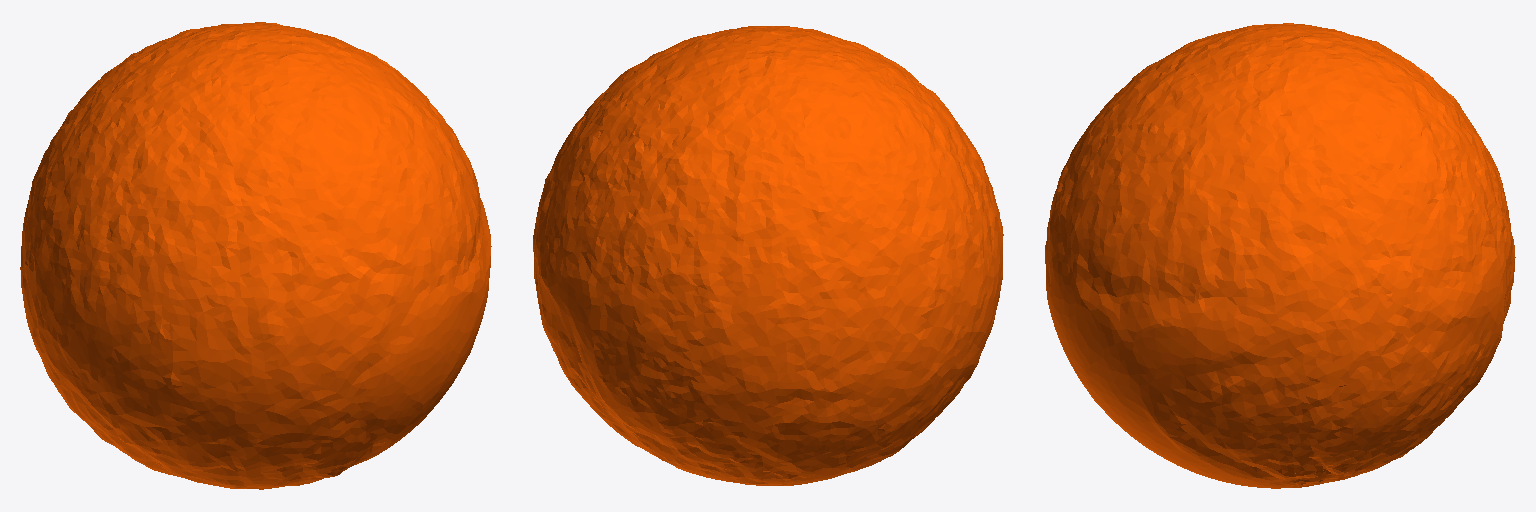
The robot description file, URDF, robot "063-b_marbles":
<?xml version="1.0" ?>
<robot name="063-b_marbles">
   <material name="obj_color">
      <color rgba="1.0 0.423529411765 0.0392156862745 1.0"/>
   </material>
   <link name="top">
      <inertial>
         <origin rpy="5.126191061356852e-06 5.16075205918702e-06 5.224736075130499e-06" xyz="0.0002031158372986791 -0.001028961450918155 -0.002280870205786779"/>
         <mass value="0.0429093483863254"/>
         <inertia ixx="5.132700721747964e-06" ixy="-1.211092766411983e-08" ixz="-7.250786538427051e-09" iyy="5.157441727168072e-06" iyz="-1.409442878075078e-08" izz="5.221536746758338e-06"/>
      </inertial>
      <visual>
         <origin rpy="0 0 0" xyz="0 0 0"/>
         <geometry>
            <mesh filename="top_watertight_tiny.stl" scale="1 1 1"/>
         </geometry>
         <material name="obj_color"/>
      </visual>
      <collision>
         <origin rpy="0 0 0" xyz="0 0 0"/>
         <geometry>
            <mesh filename="top_watertight_tiny.obj" scale="1 1 1"/>
         </geometry>
      </collision>
   </link>
   <link name="bottom">
      <inertial>
         <origin rpy="1.633333333199431e-08 1.633333333199431e-08 1.633333333362855e-08" xyz="0.3464080000000008 0.3464080000000008 0.3464080000000008"/>
         <mass value="0.0009800000000000017"/>
         <inertia ixx="1.633333333253906e-08" ixy="5.447480642029219e-19" ixz="5.447480642029219e-19" iyy="1.633333333253906e-08" iyz="5.447480642029219e-19" izz="1.633333333253906e-08"/>
      </inertial>
      <visual>
         <origin rpy="0 0 0" xyz="0 0 0"/>
         <geometry>
            <mesh filename="bottom_watertight_tiny.stl" scale="1 1 1"/>
         </geometry>
         <material name="obj_color"/>
      </visual>
   </link>
   <joint name="rotation" type="revolute">
      <origin xyz="0 0 0"/>
      <axis xyz="0 0 -1"/>
      <parent link="bottom"/>
      <child link="top"/>
      <dynamics damping="1.0" friction="1.0"/>
      <limit effort="0.1" velocity="0.1" lower="0" upper="0.001"/>
   </joint>
</robot>

--- Facts derived from the render (not from the file) ---
The picture shows the robot from 3 angles, left to right: view 1: azimuth 30°, elevation 25°; view 2: azimuth 150°, elevation 25°; view 3: azimuth 270°, elevation 25°; orthographic projection.
Robot: 063-b_marbles — 2 links, 1 joints (1 revolute); root link bottom; default pose: all joints at 0.
Visible links, largest first — view 1: top; view 2: top; view 3: top.
Boxes of the visible links, x1,y1,x2,y2 form: top: [20, 22, 491, 489]; top: [533, 26, 1003, 485]; top: [1045, 23, 1515, 488].
Bounding box of the posed robot: 0.035 × 0.035 × 0.0345 m (x, y, z).
Meshes: 2 distinct files referenced, 1 mesh visuals loaded (1 binary STL); not drawn: 1 (reference not matched to a file when rendering).
